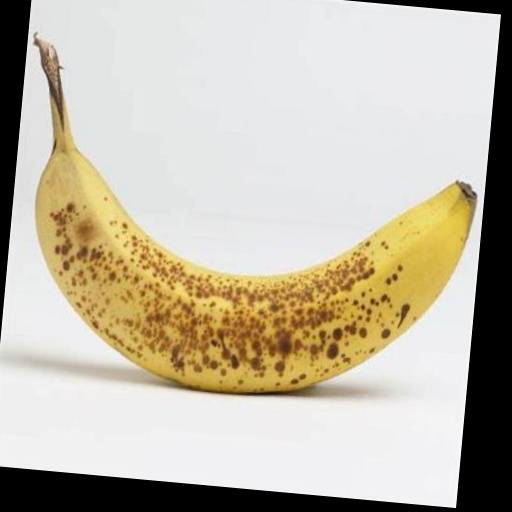fruit: (35, 36, 476, 392)
